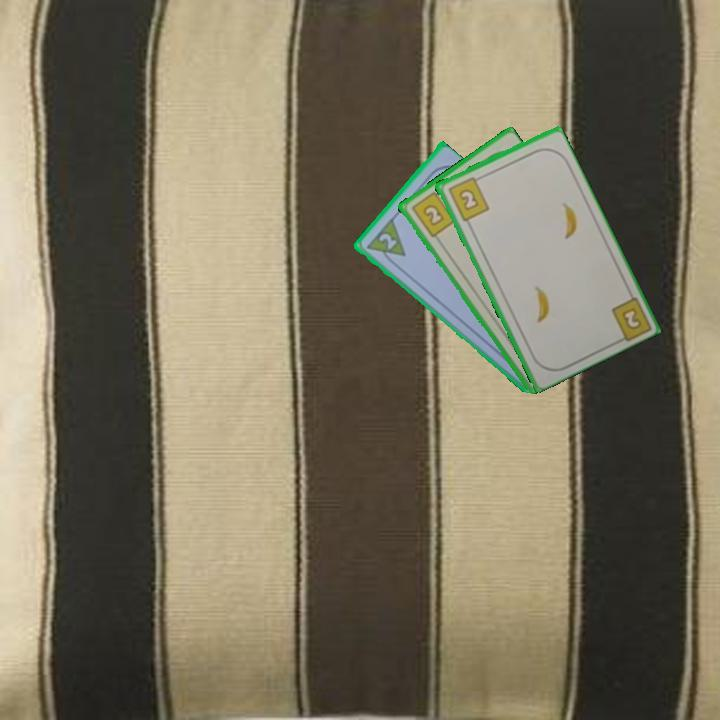2b: (408, 186, 458, 240), (444, 173, 492, 224), (618, 304, 644, 333)
2p: (374, 229, 399, 253)
